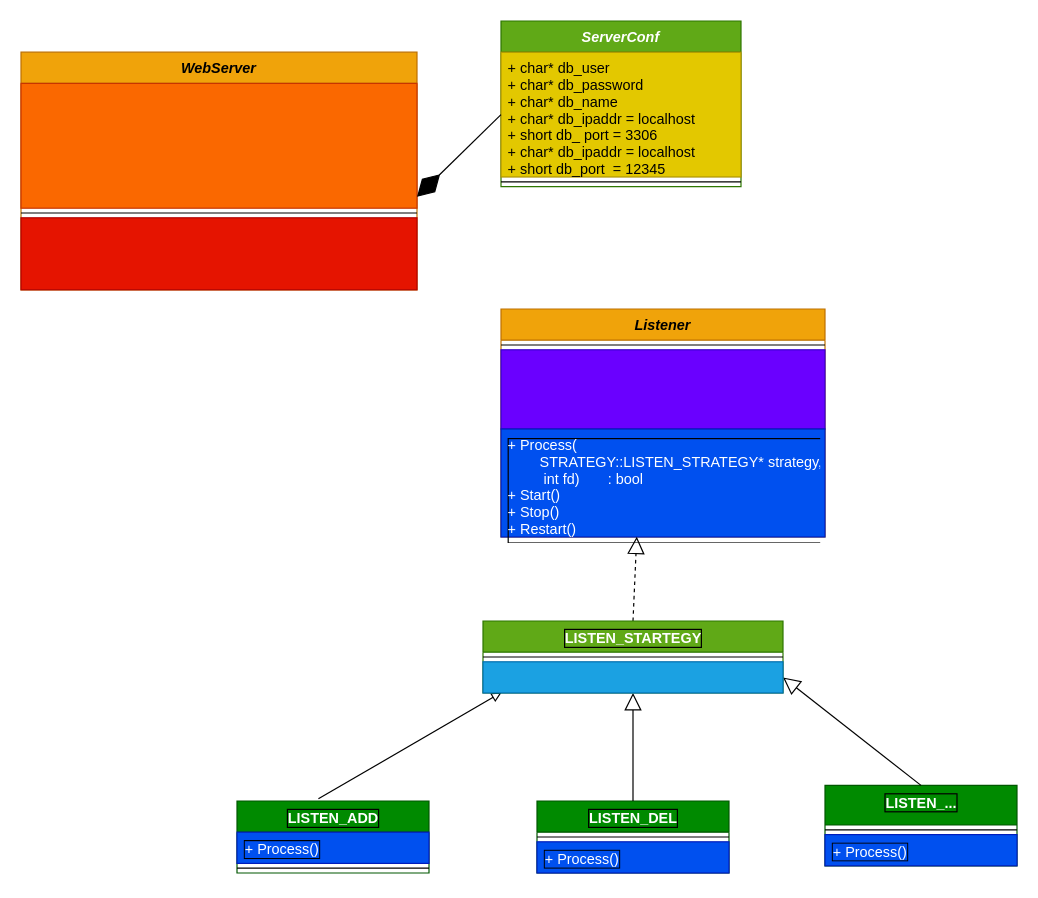
Some shapes in this 1038 by 898 pixel diagram are drawn without their labels. The shapes that lost their labels are listed below. From the top down, each one's centre as x and y in pixels, then its label:
the point at 218,145: - const ServerConf config
the point at 218,253: + WebServer(const ServerConf& config) + ~WebServer() + Listen() : void
the point at 662,389: - int m_epoll_fd - int m_listen_fd - epoll_event m_ev
the point at 632,677: + Process(int epoll_fd, int fd) : bool
